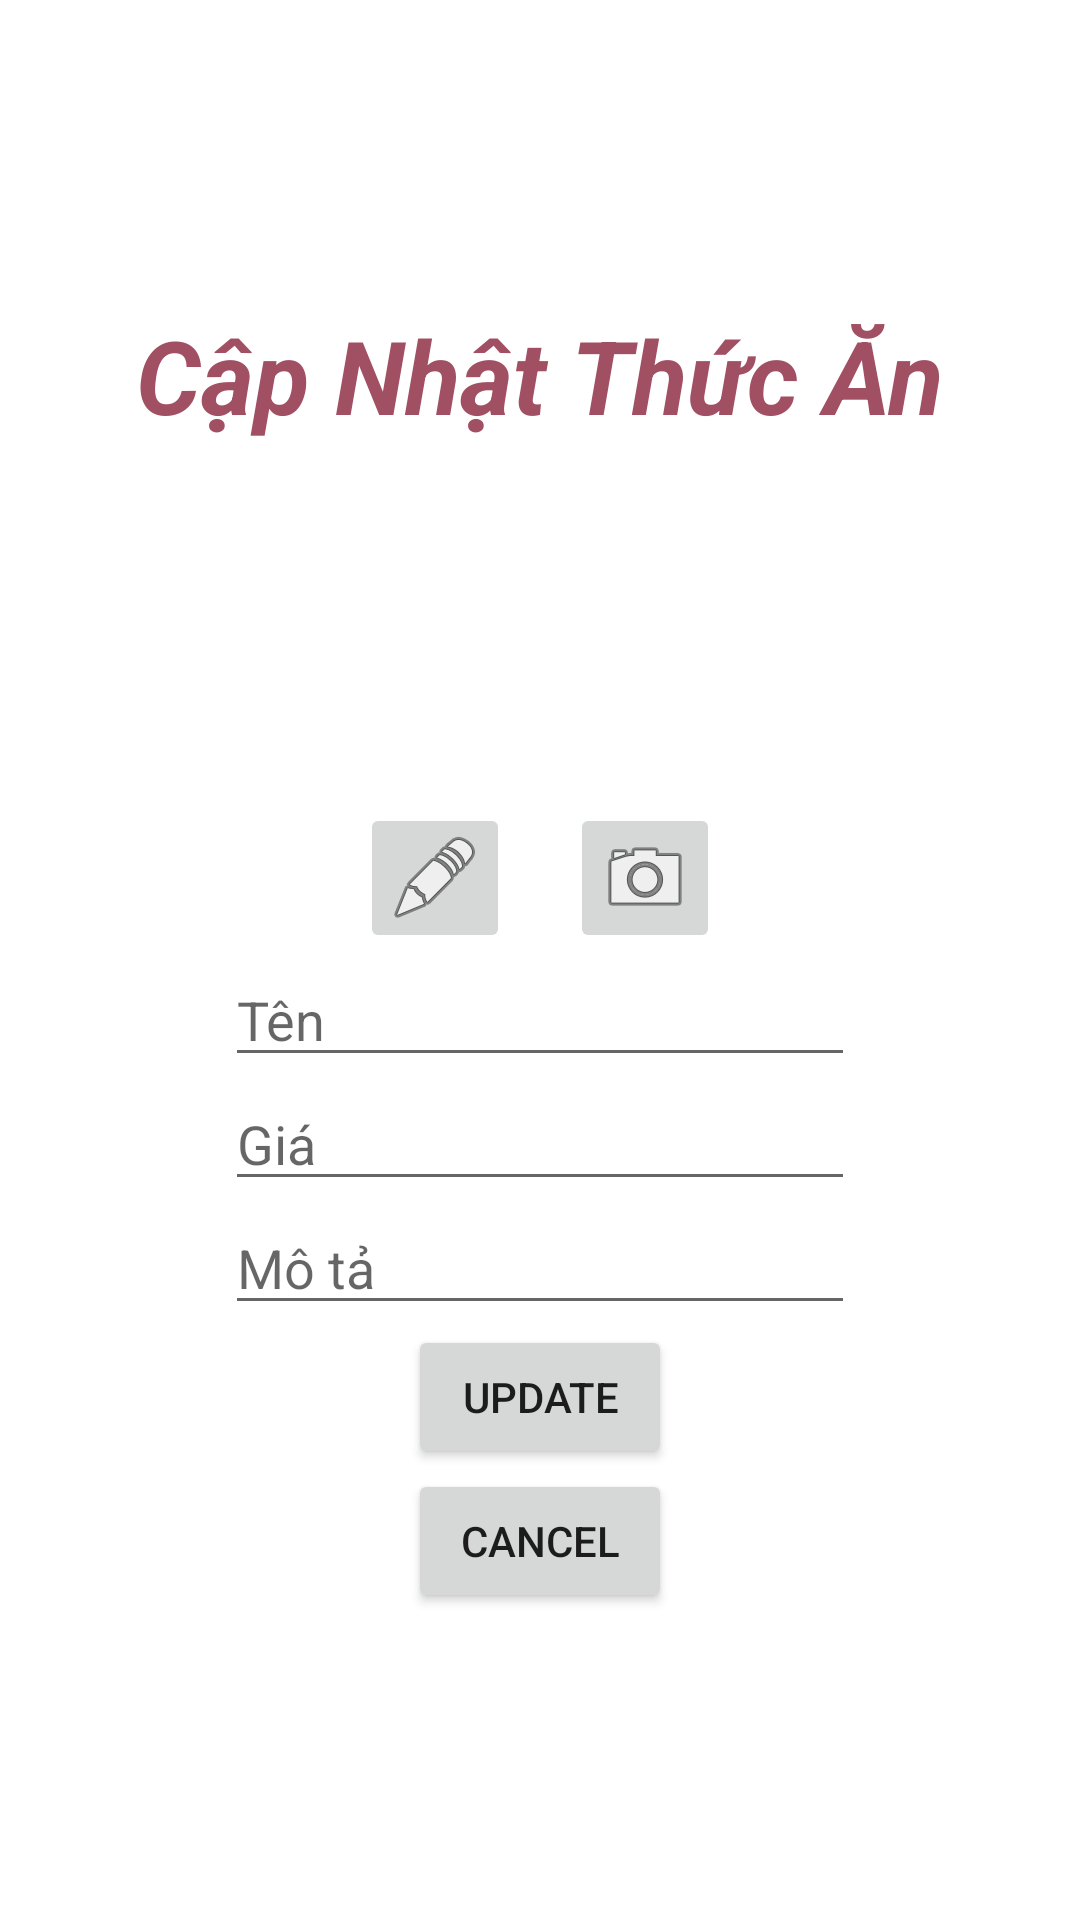

Named icons in this screenshot (1080x1920) and their bounding boxes, box=[x1, y1, x2, y2]:
camera: box=[582, 821, 708, 935]
edit: box=[372, 821, 498, 935]
